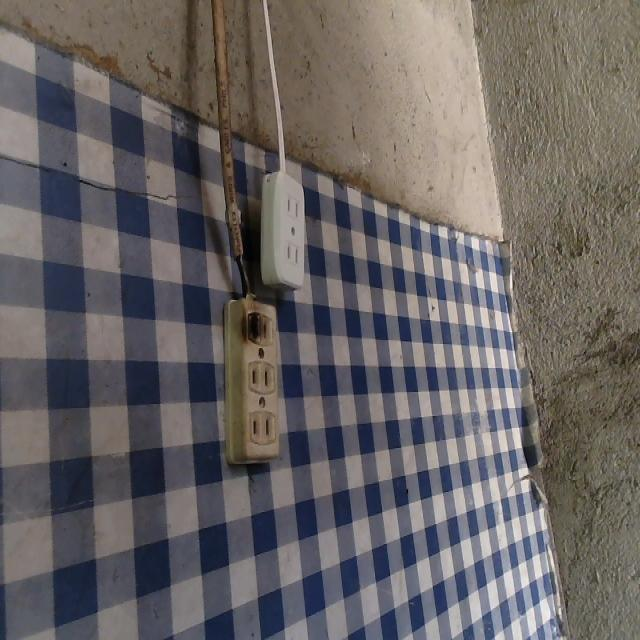-: (232, 307, 266, 348)
